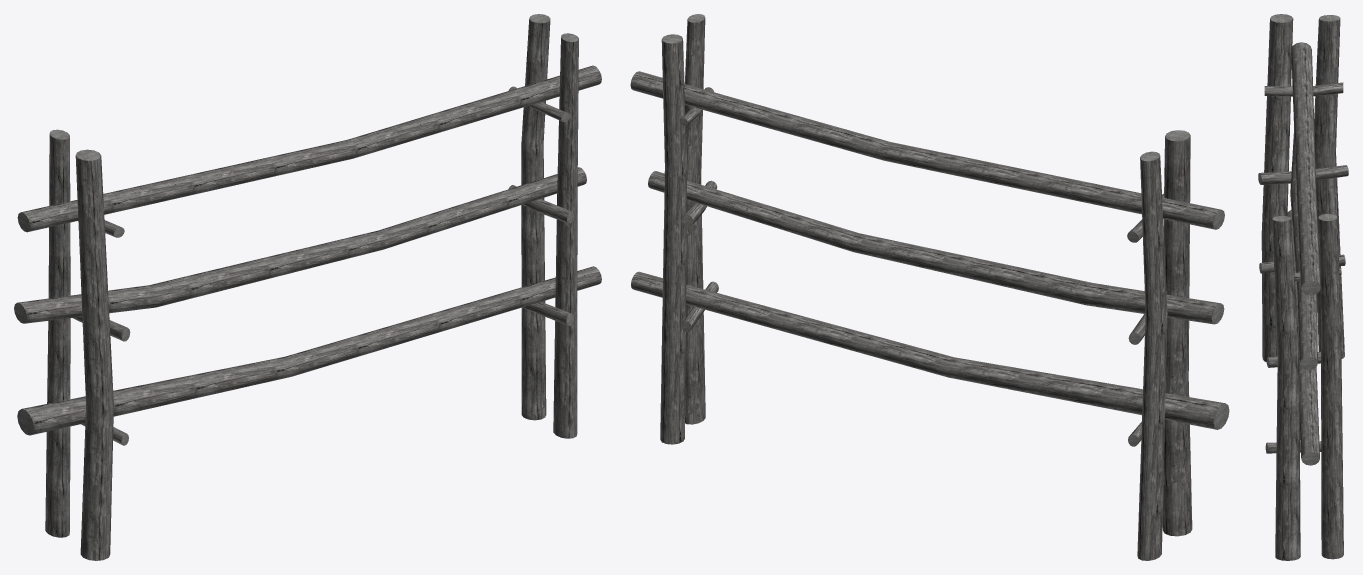
Rendered from field_gate_01.glb.
3 views of the same model, side by side, from view 1: azimuth 30°, elevation 25°; view 2: azimuth 150°, elevation 25°; view 3: azimuth 270°, elevation 25° (orthographic). The views are drawn at different scales.
Visible parts, largest first — view 1: Root_A_Main_0, Root_B_Endwood_0; view 2: Root_A_Main_0, Root_B_Endwood_0; view 3: Root_A_Main_0, Root_B_Endwood_0.
Boxes of the visible parts, bbox=[...] form: Root_A_Main_0: bbox=[18, 19, 601, 560]; Root_B_Endwood_0: bbox=[14, 14, 578, 445]; Root_A_Main_0: bbox=[630, 18, 1224, 560]; Root_B_Endwood_0: bbox=[662, 14, 1229, 446]; Root_A_Main_0: bbox=[1260, 18, 1348, 560]; Root_B_Endwood_0: bbox=[1258, 14, 1339, 465].
Bounding box in the file's own units: 2.44 × 1.6 × 0.3878.
2 materials, 2 textured.
